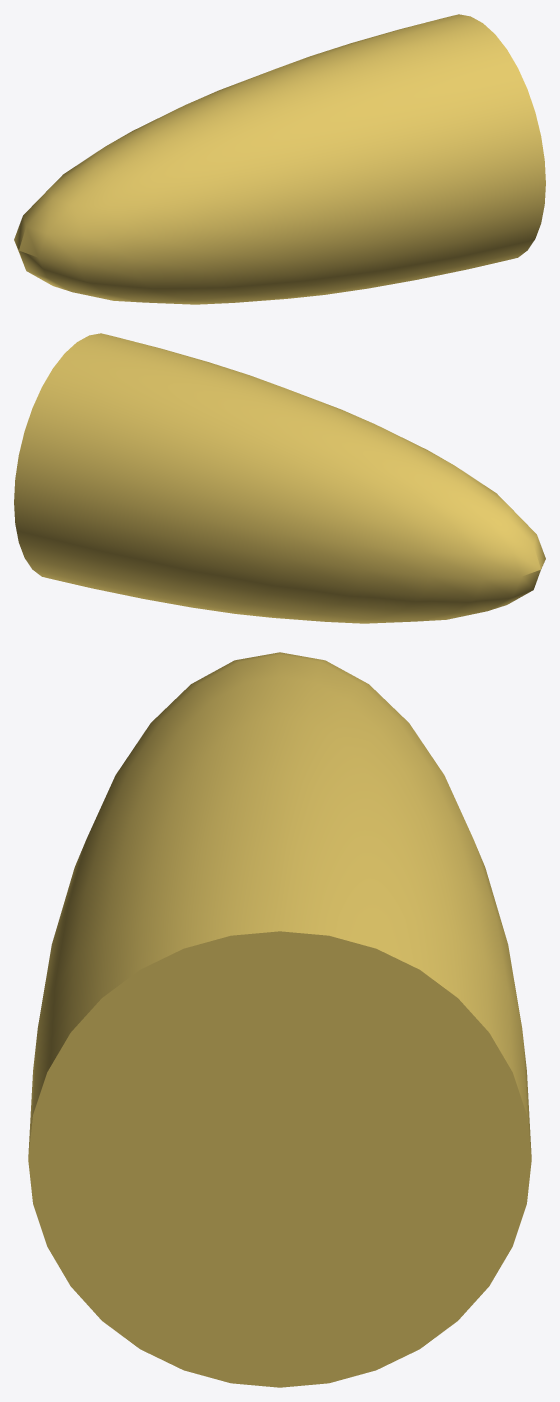
File: tama.fbx
3 renders of one model, top to bottom at view 1: azimuth 30°, elevation 25°; view 2: azimuth 150°, elevation 25°; view 3: azimuth 270°, elevation 25°, orthographic. The views are drawn at different scales.
Parts seen in each view (by area): view 1: 球; view 2: 球; view 3: 球.
Part boxes in pixels (x1,y1,x2,y2): 球: (14, 14, 545, 304); 球: (14, 333, 545, 623); 球: (28, 652, 531, 1387).
Size of the model in its own units: 426 by 200 by 200.
